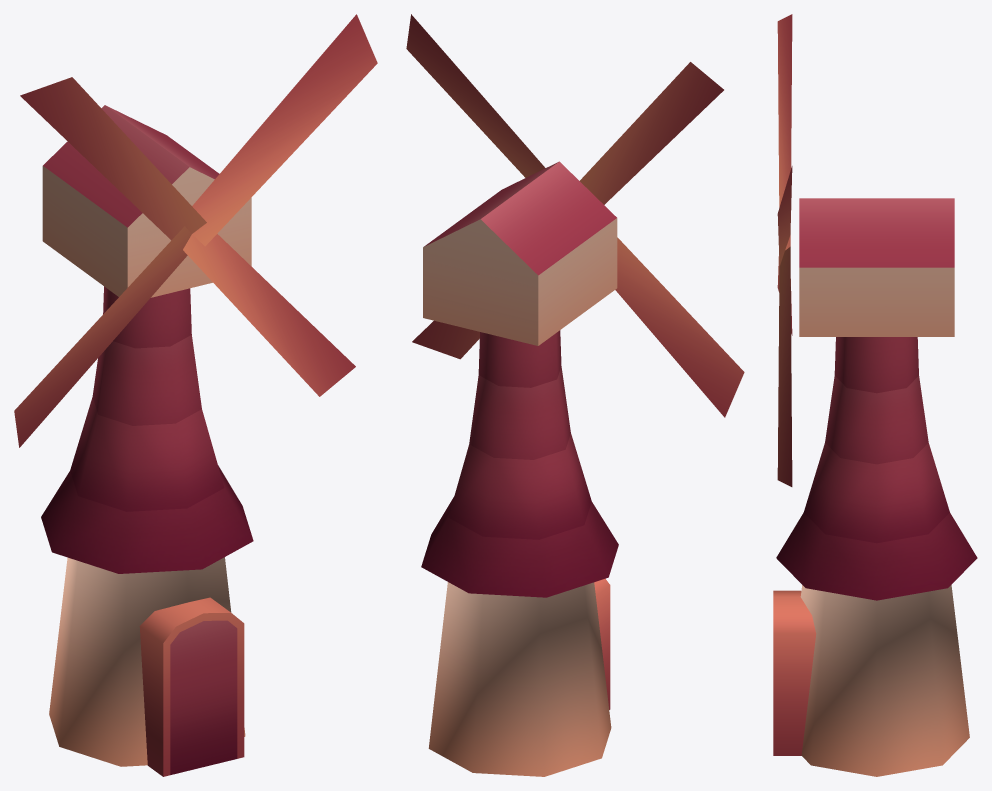
File: Mdl_Mill.fbx
3 views of the same model, side by side, from view 1: azimuth 30°, elevation 25°; view 2: azimuth 150°, elevation 25°; view 3: azimuth 270°, elevation 25° (orthographic). The views are drawn at different scales.
Visible parts, largest first — view 1: Mill; view 2: Mill; view 3: Mill.
Part boxes in pixels (x1,y1,x2,y2): Mill: (14,14,377,776); Mill: (406,14,744,776); Mill: (773,14,977,776).
Bounding box in the file's own units: 495 × 936 × 263.
